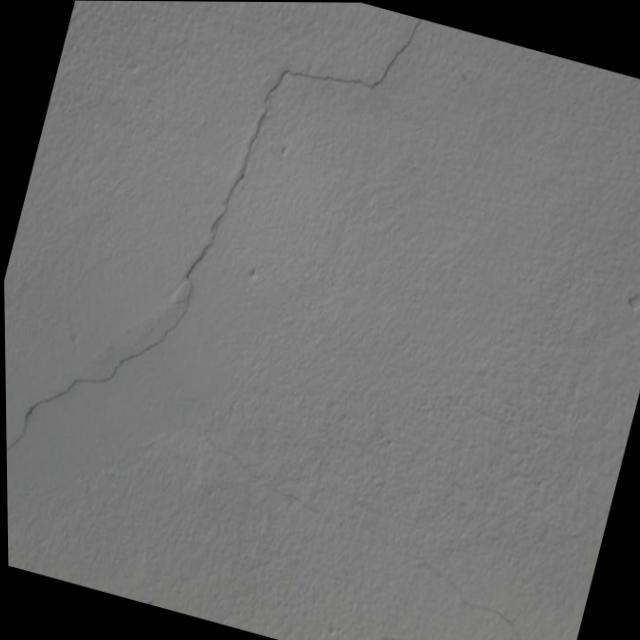Crack: (0, 0, 434, 637)
